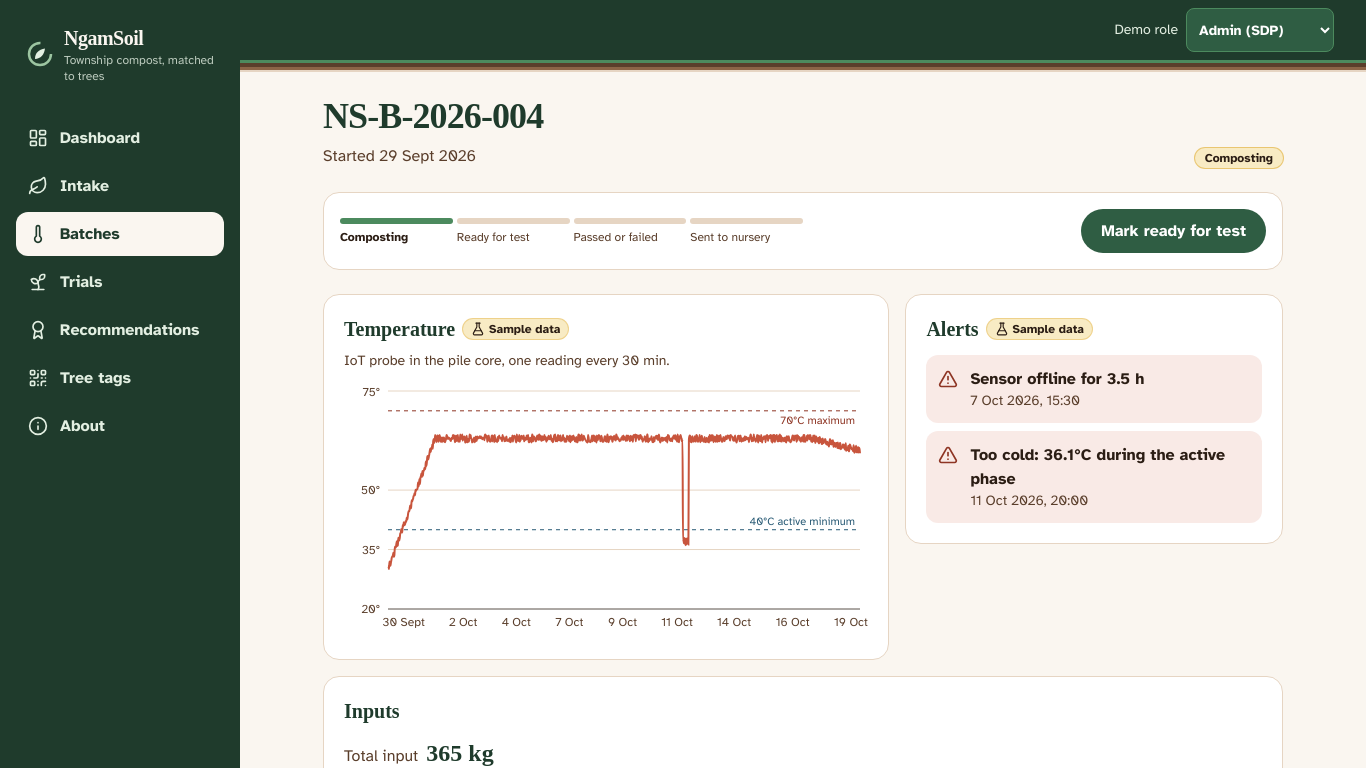
Test: BatchDetailPage › marks a batch ready for test
This screenshot has width=1366, height=768.
Expected: the list item "Composting" is shown, [340,218,453,244]
Click the button "Mark ready for test": point(1174, 231) [1081,209,1266,253]
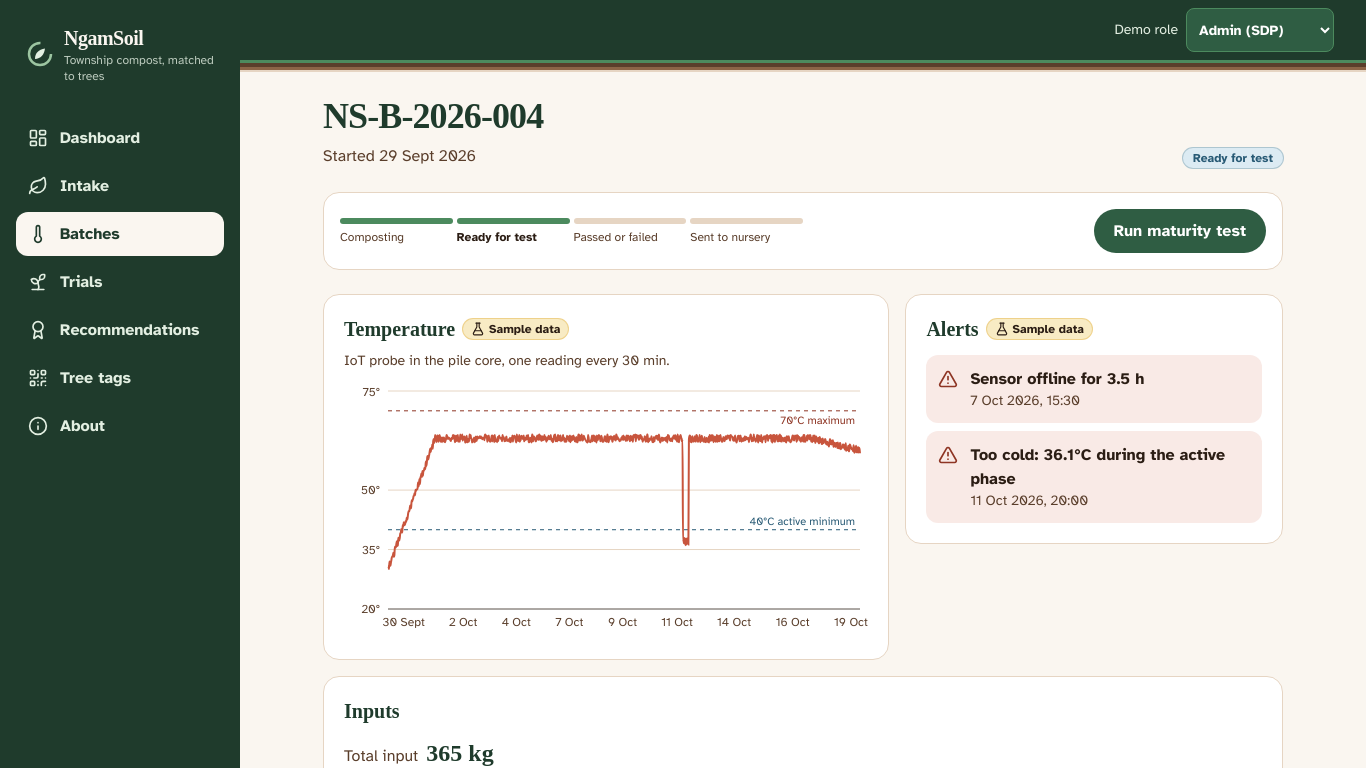
Expected: the list item "Ready for test" is shown, [457,218,570,244]
Now the button "Mark ready for test" is gone
